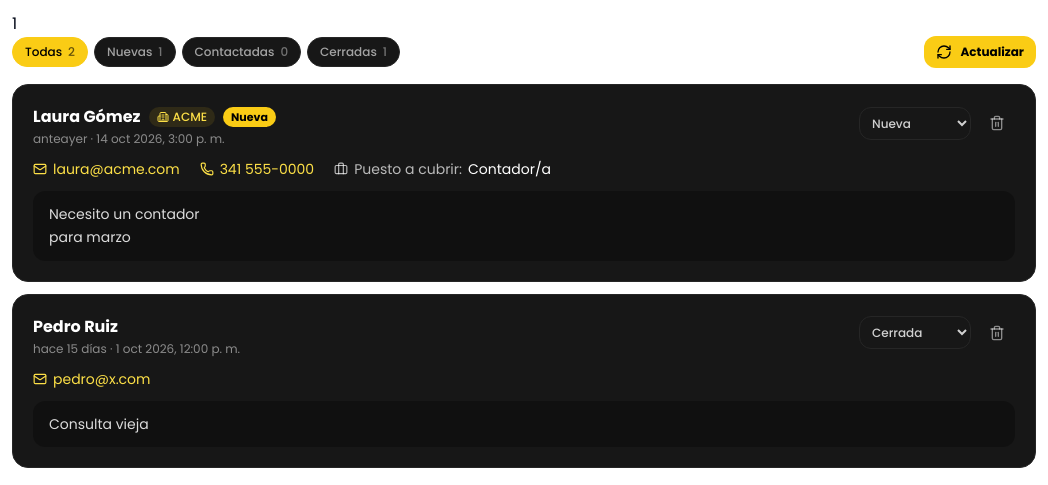
Scenario: Consultas de empresas › cambiar el estado hace PATCH y baja el conteo de nuevas al instante
The image size is (1048, 485).
Check: the text "laura gómez" is shown, box [33,105,140,129]
Step 1. Select "Contactada" in the dropdown named "Estado de la consulta de laura" → {"x": 915, "y": 123}, box [859,106,971,140]
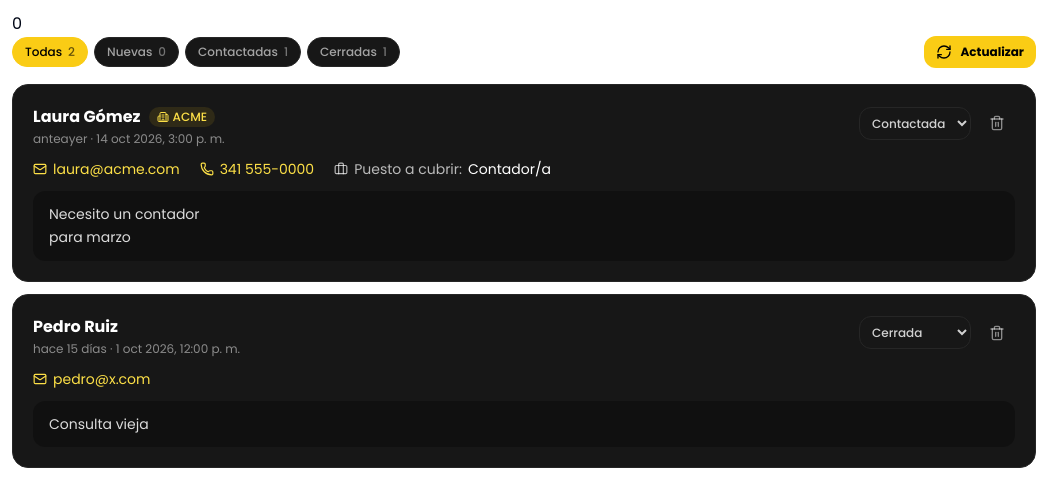
Check: the text with test id "pending" reads "0", box [12,12,22,35]
